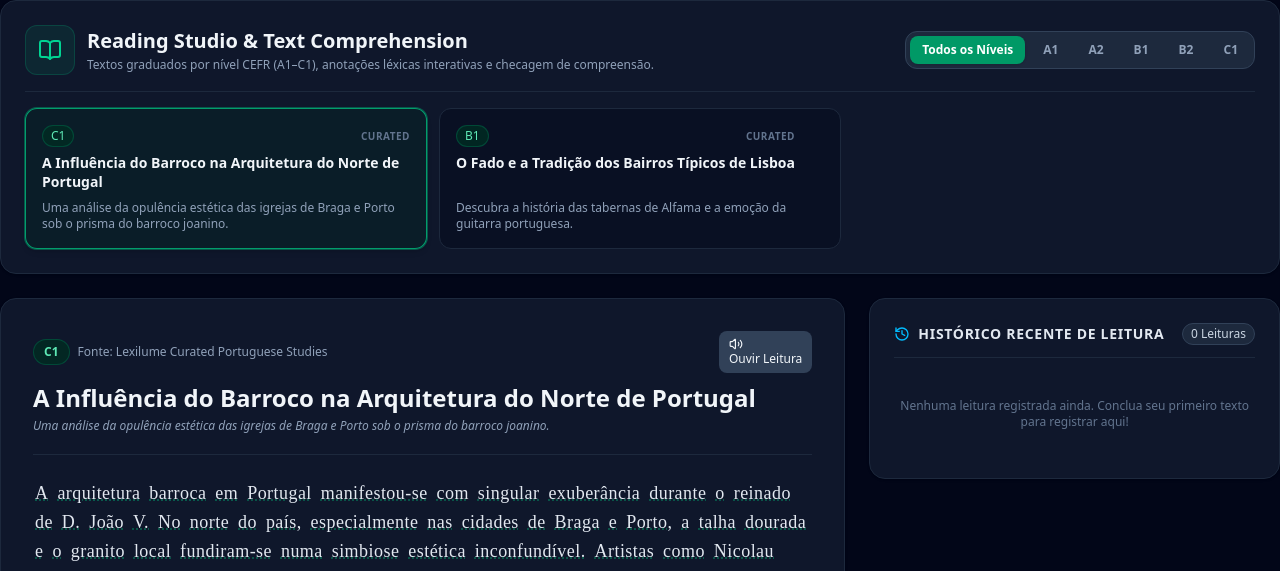
Scenario: Step 8: Advanced Learning Features — Receptive & Multi-Modal Skills › 6. Reading Studio › renders CEFR-filtered reading, tracks reading history, and validates comprehension
The image size is (1280, 571).
expect the heading "Reading Studio & Text Comprehension" is shown: met, box 87,27 -> 468,54
expect the heading "A Influência do Barroco na Arquitetura do Norte de Portugal" below "Fonte:" is shown: met, box 33,380 -> 812,414
# Filter by CEFR
Click the button "B1" at coordinates (1141, 50), box 1122,36 -> 1160,64
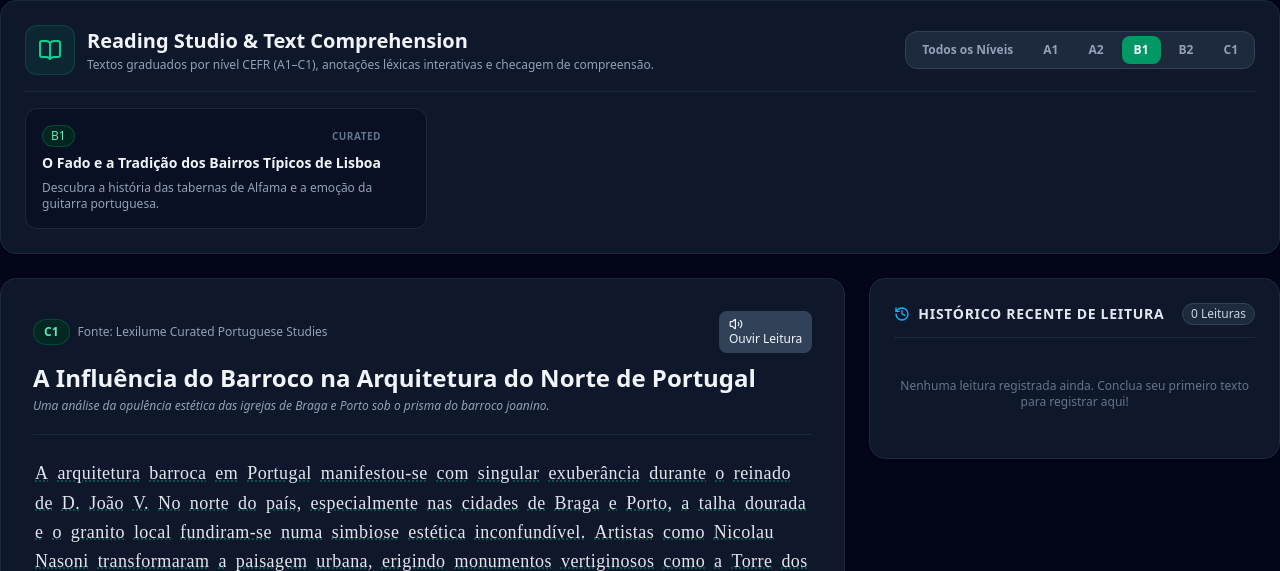
expect the heading "O Fado e a Tradição dos Bairros Típicos de Lisboa" is shown: met, box 42,153 -> 381,172
# Switch back to C1
Click the button "C1" at coordinates (1231, 50), box 1212,36 -> 1250,64
(page scrolled)
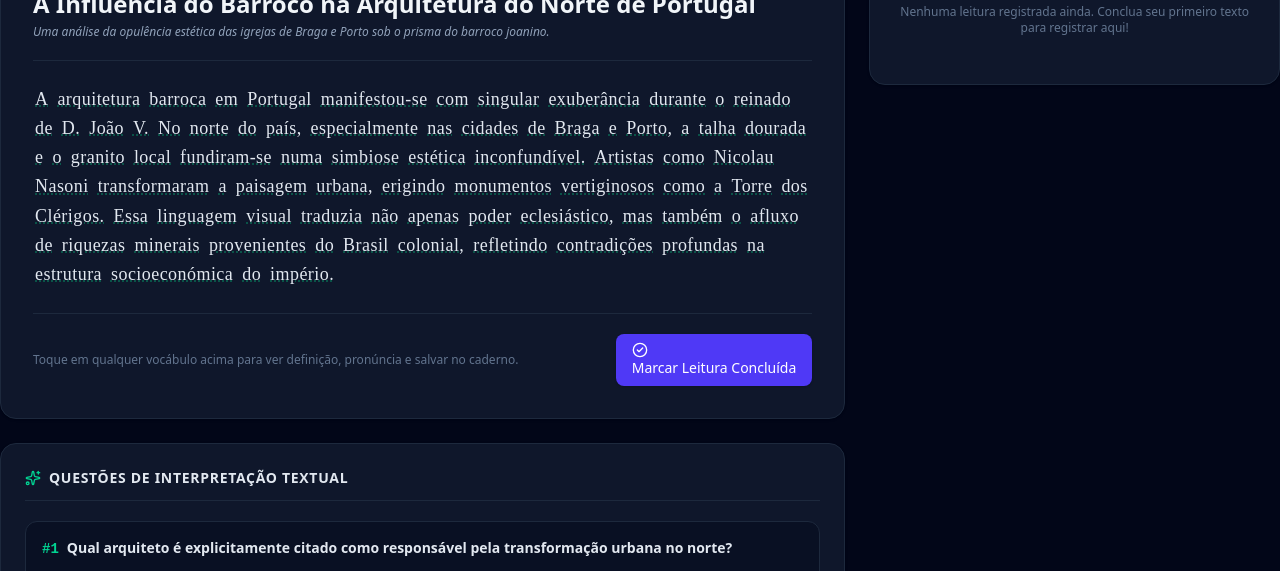
# Mark as completed
Click the button "Marcar Leitura Concluída" at coordinates (714, 360), box 616,334 -> 812,386
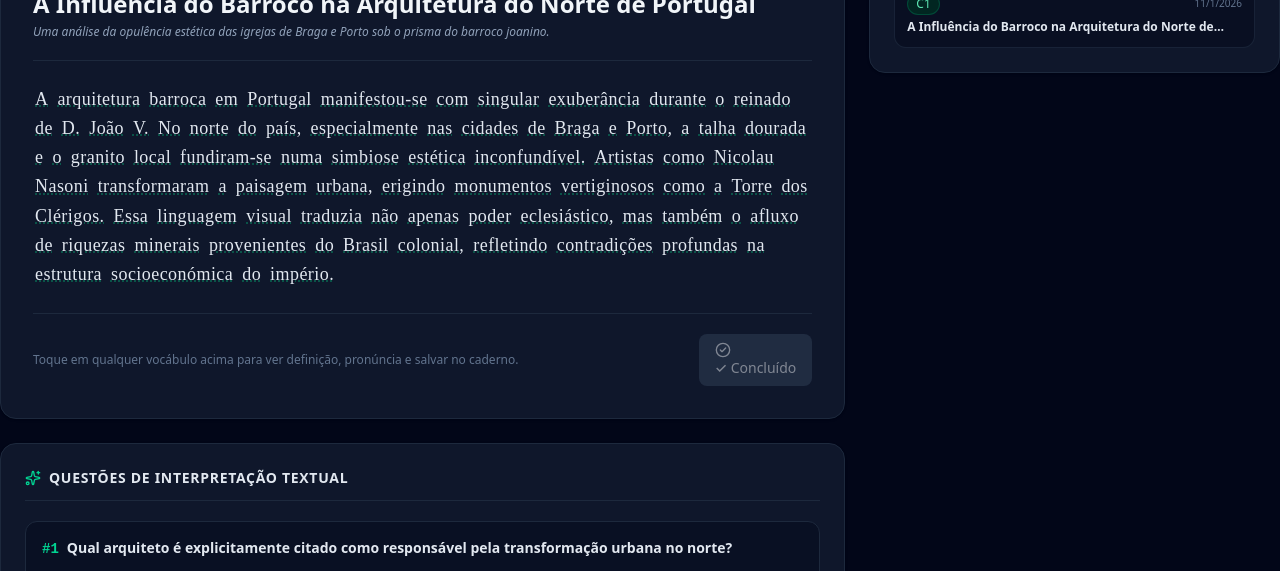
expect the text "✓ Concluído" is shown: met, box 715,358 -> 796,377
